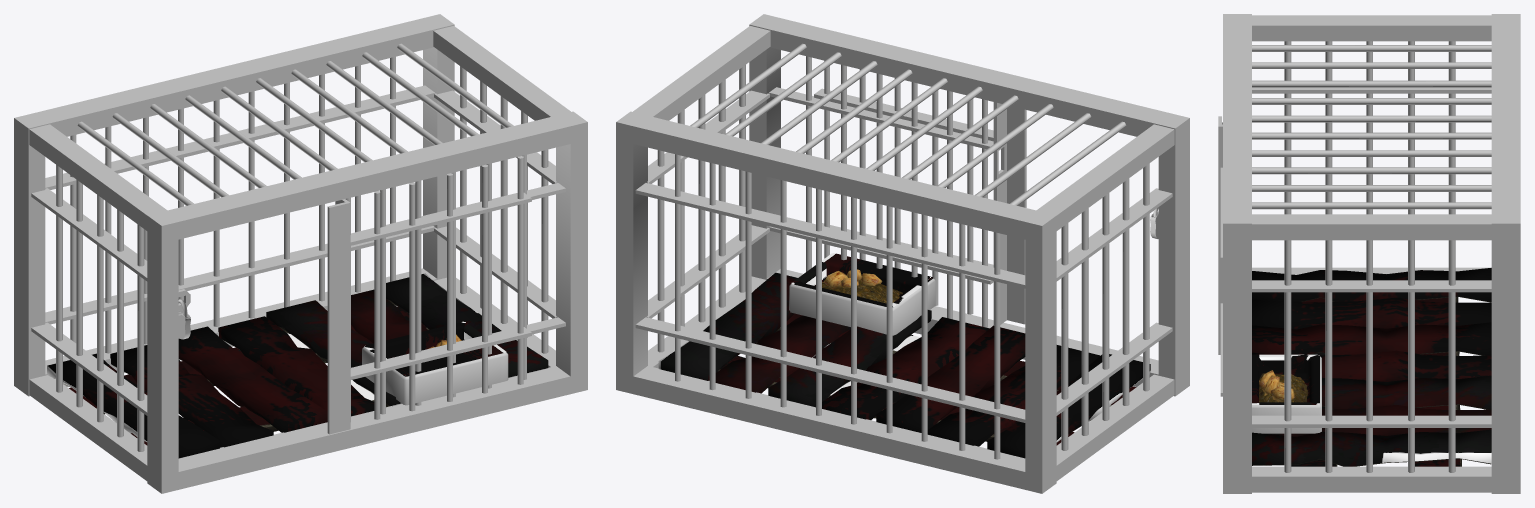
File: cage_03_open.DAE
3 views of the same model, side by side, from view 1: azimuth 30°, elevation 25°; view 2: azimuth 150°, elevation 25°; view 3: azimuth 270°, elevation 25° (orthographic).
Visible parts, largest first — view 1: Object061, Object058, Object060, Box026; view 2: Object061, Object058, Object060, Box026, Plane009, Object059; view 3: Object061, Object058, Object060, Box026, Plane009, Object057, Object059.
Boxes of the visible parts, bbox=[...] form: Object061: bbox=[14, 14, 587, 493]; Object058: bbox=[47, 273, 548, 458]; Object060: bbox=[327, 156, 531, 434]; Box026: bbox=[362, 347, 508, 405]; Object061: bbox=[616, 14, 1189, 493]; Object058: bbox=[658, 253, 1150, 458]; Object060: bbox=[814, 60, 1026, 325]; Box026: bbox=[789, 278, 935, 335]; Plane009: bbox=[822, 280, 902, 303]; Object059: bbox=[823, 269, 882, 288]; Object061: bbox=[1223, 14, 1520, 493]; Object058: bbox=[1252, 267, 1491, 466]; Object060: bbox=[1218, 116, 1222, 396]; Box026: bbox=[1252, 356, 1321, 433]; Plane009: bbox=[1259, 373, 1308, 402]; Object057: bbox=[1252, 296, 1491, 466]; Object059: bbox=[1259, 370, 1295, 402].
Size of the model in its own units: 2.5 by 1.51 by 1.52.
